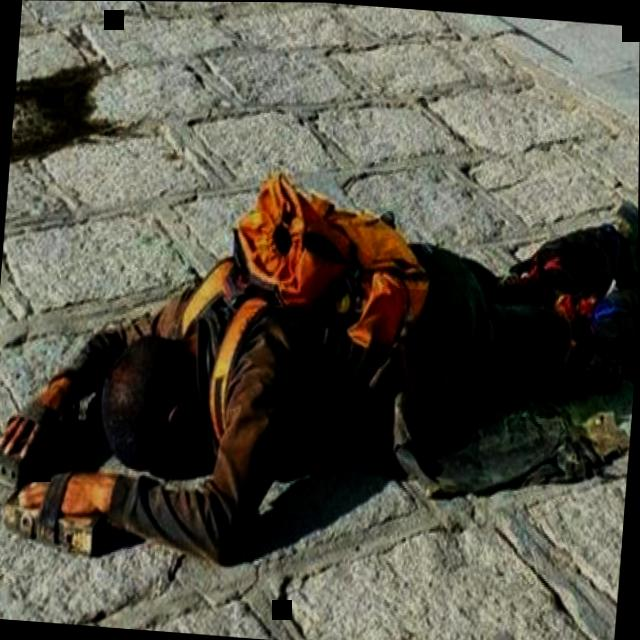Fall-Detected: (0, 123, 639, 631)
